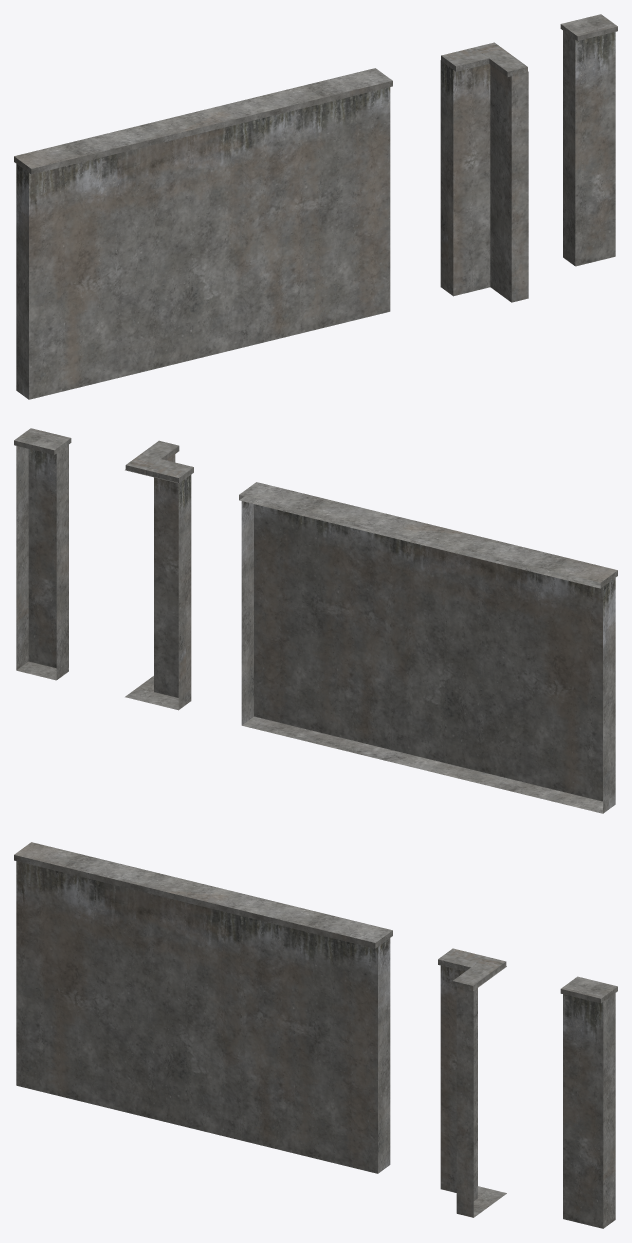
File: wall_low_poly.glb
3 renders of one model, top to bottom at view 1: azimuth 30°, elevation 25°; view 2: azimuth 150°, elevation 25°; view 3: azimuth 330°, elevation 25°, orthographic.
Parts seen in each view (by area): view 1: Object_2; view 2: Object_2; view 3: Object_2.
Part boxes in pixels (x1,y1,x2,y2): Object_2: (14, 14, 617, 399); Object_2: (14, 428, 617, 813); Object_2: (14, 842, 617, 1228).
Size of the model in its own units: 812 by 308 by 86.72.
Materials: 1 (1 with a texture image).
